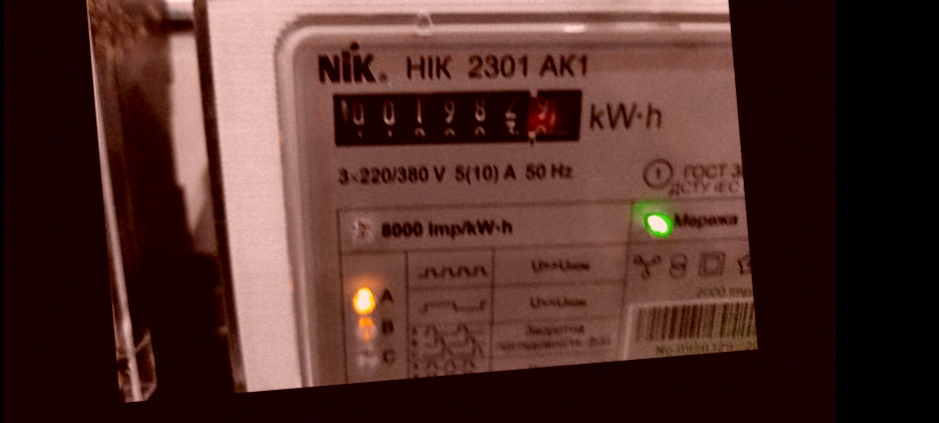0: (381, 98, 400, 128), (351, 98, 369, 128)
1: (413, 96, 427, 126)
2: (503, 91, 523, 121)
8: (473, 94, 491, 124)
9: (534, 94, 557, 124), (442, 96, 459, 126)
screen: (315, 58, 603, 178)
